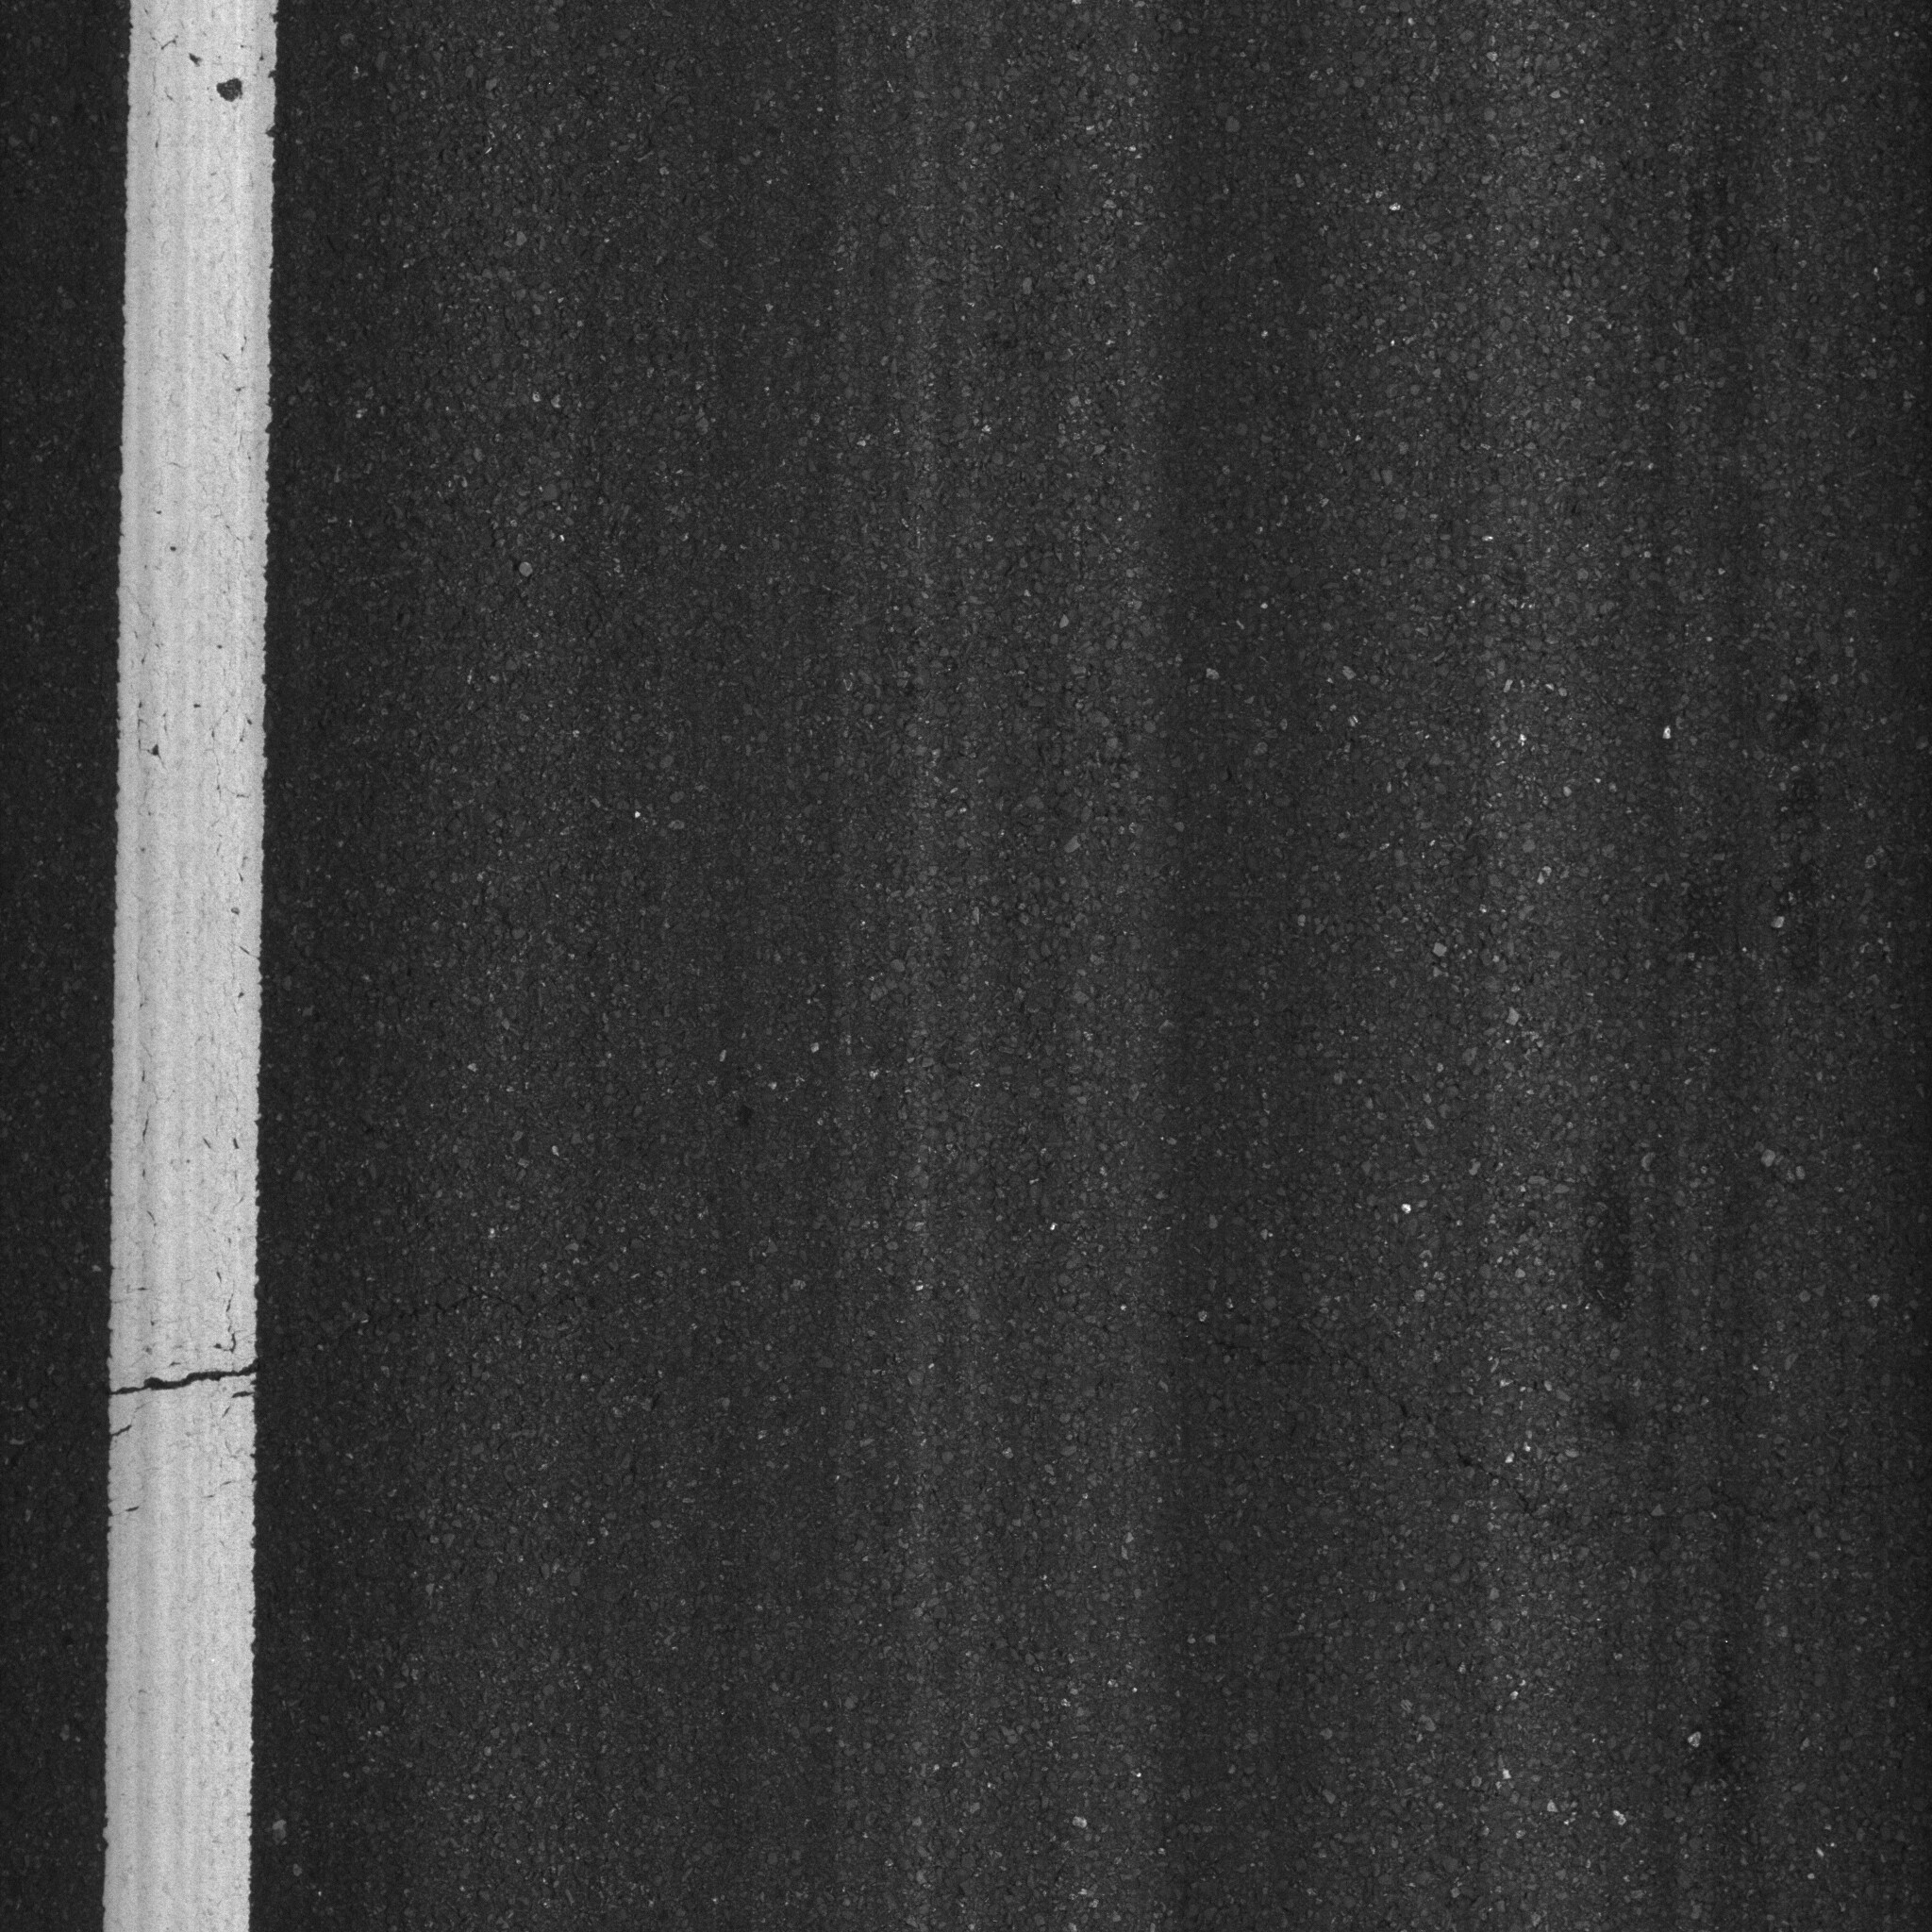transverse: (1129, 1274, 1840, 1591), (2, 1210, 812, 1454)
